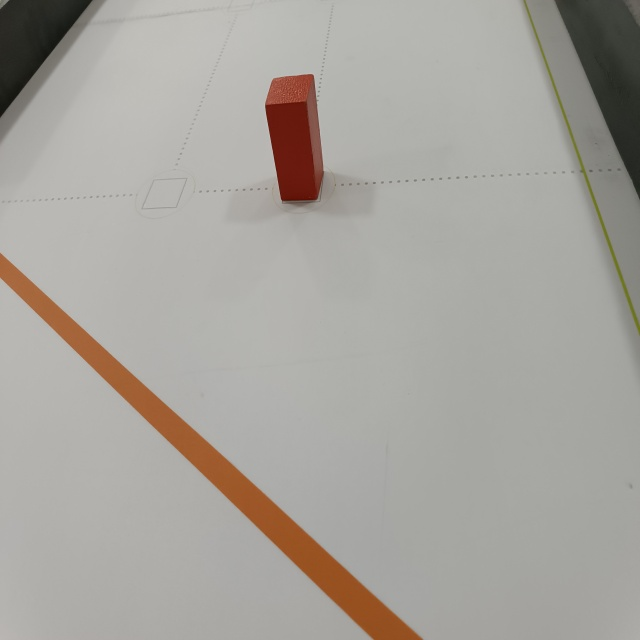orange line: (0, 248, 431, 640)
red rectangular prism: (262, 76, 328, 207)
